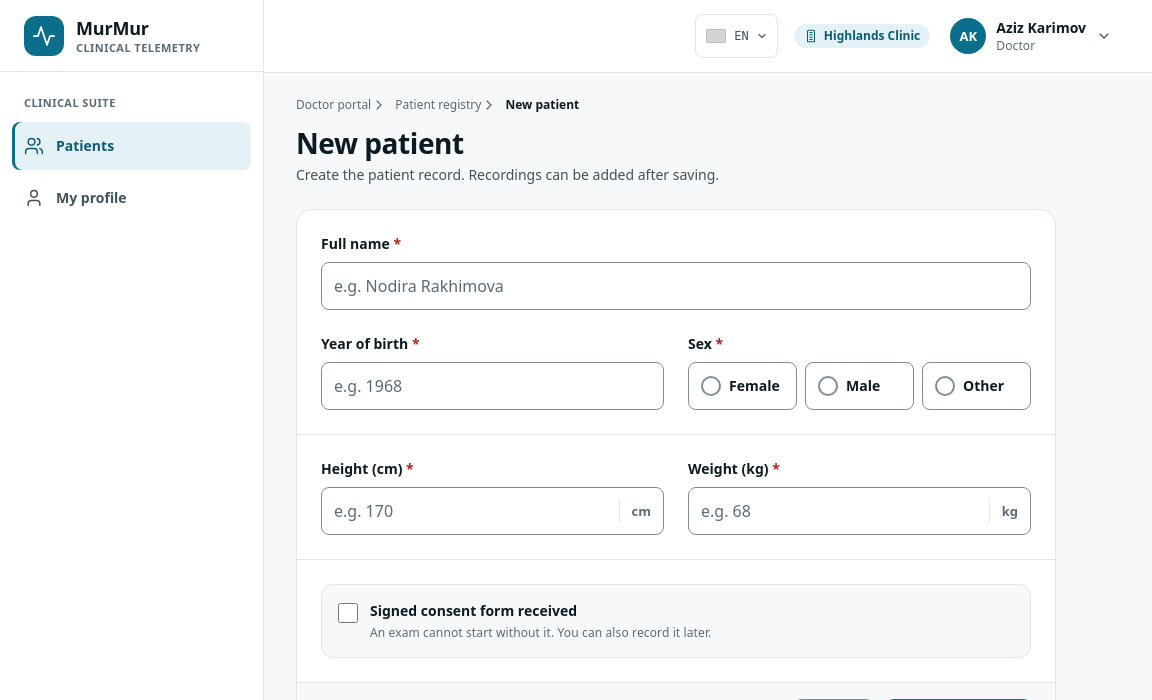
patient form › errors show when a field is left, before any save
Type "900" into the field labelled "Height (cm) *".
click(472, 511); type("900")  # box [334,488,610,534]
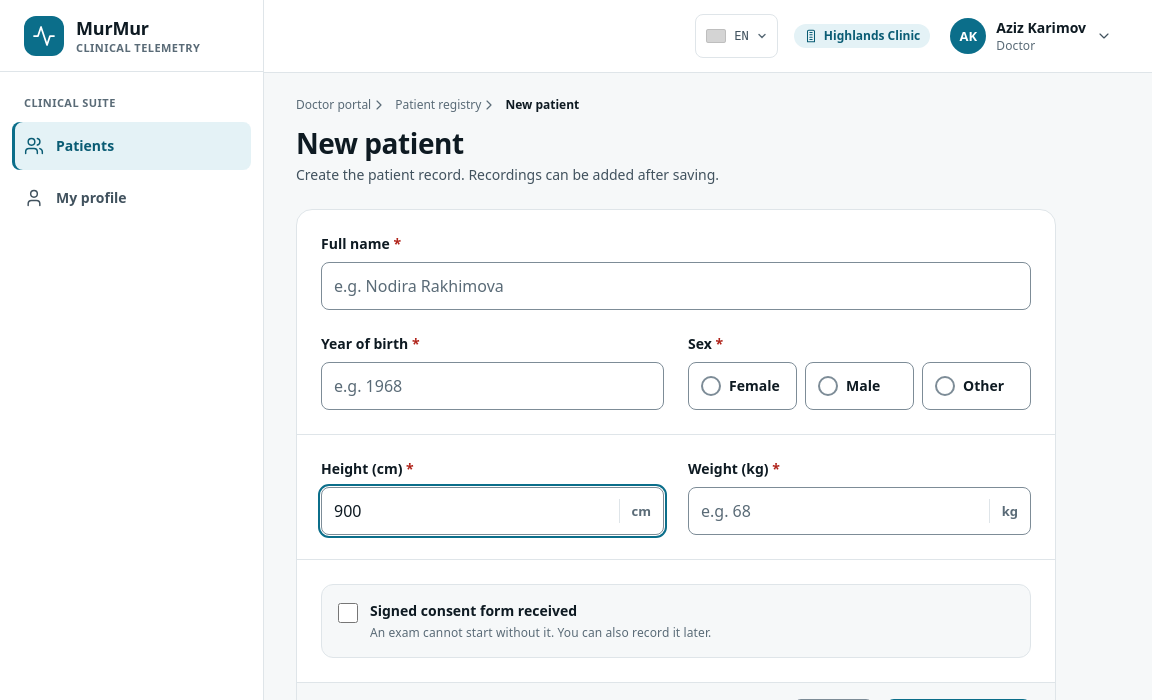
Press Tab
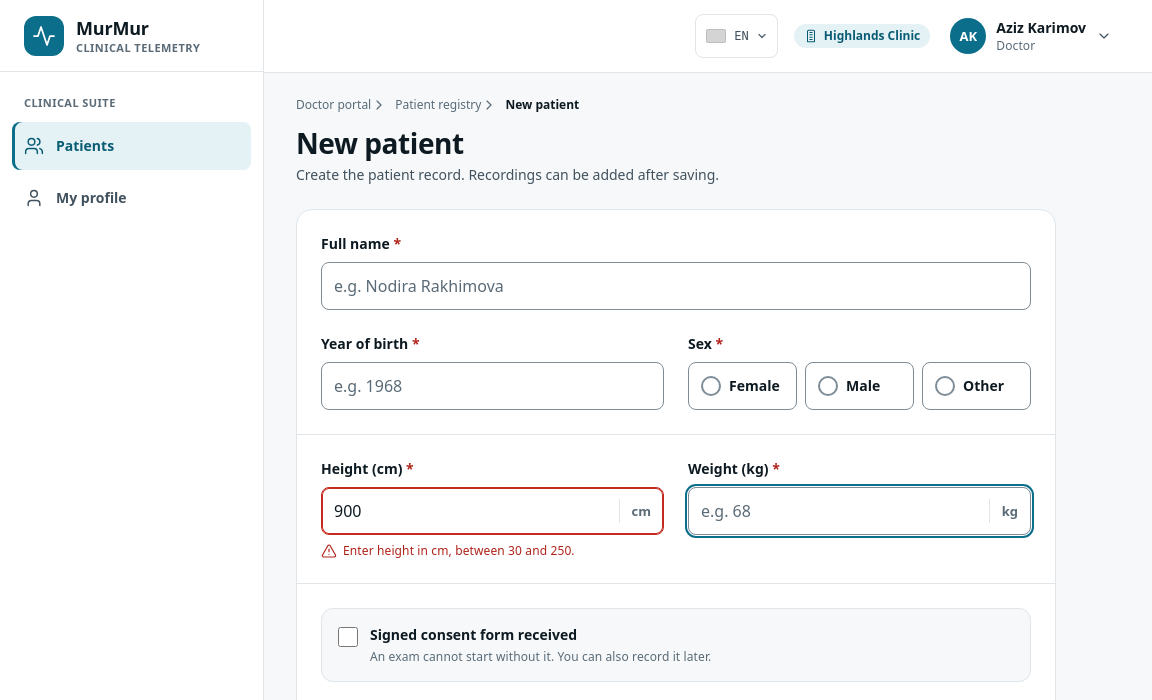
Result: the text "Enter height in cm, between 30 and 250." is shown at [343,543,575,559]
